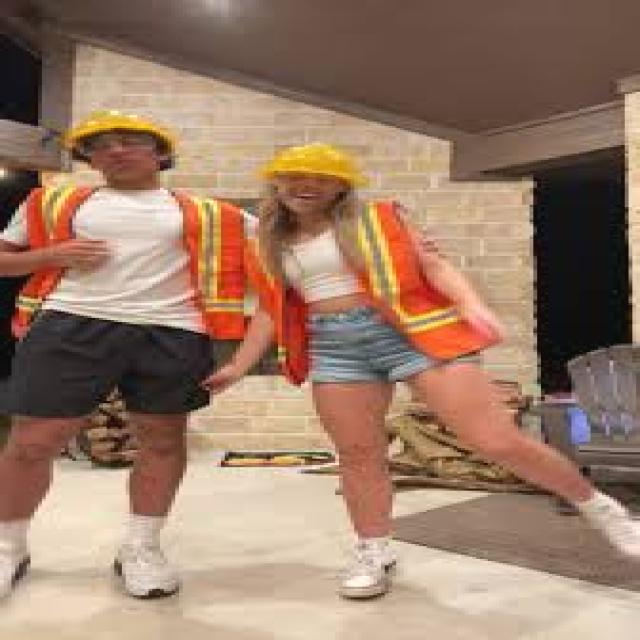Hard Hat: (235, 138, 382, 190), (46, 102, 207, 140)
Reflective Vest: (0, 176, 268, 348), (260, 189, 488, 388)
